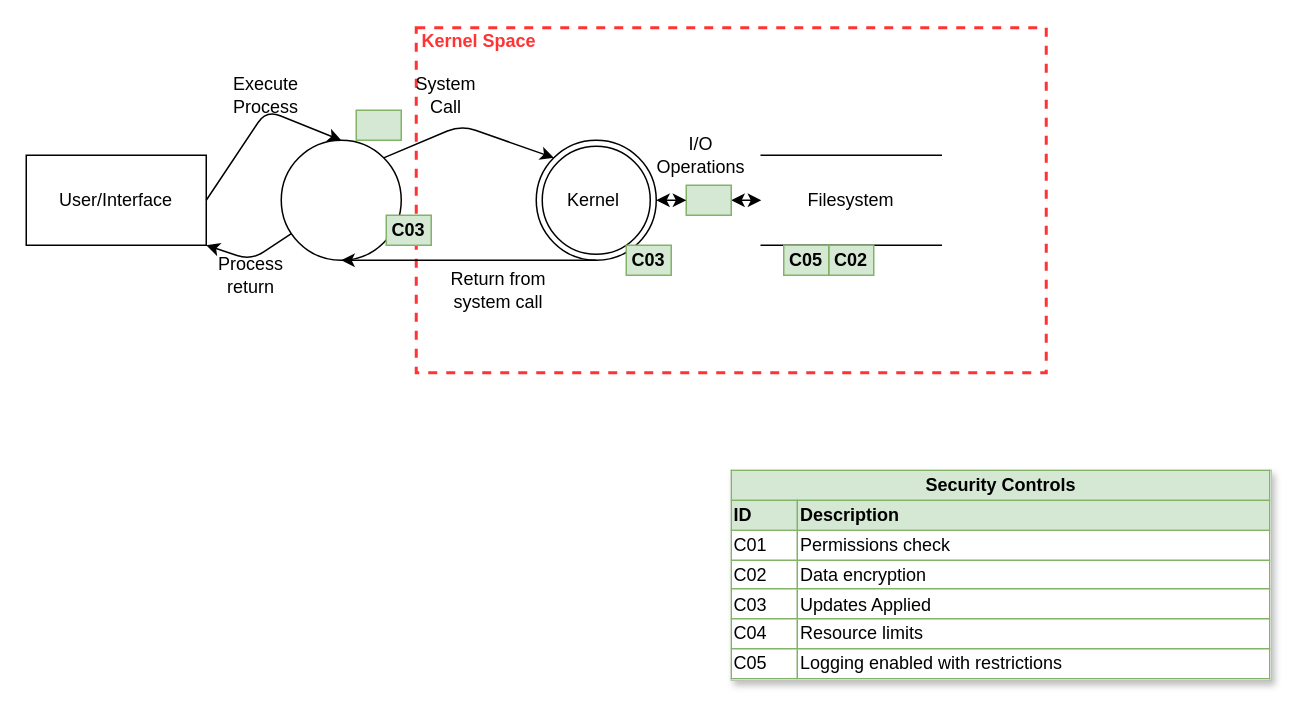
Image size: 1307x717. Some labels were removed from this diagram. The centre of each missing label's shape, as x and y in pixels:
C01: [708,199]
C04: [378,124]
User Processes: [340,199]
